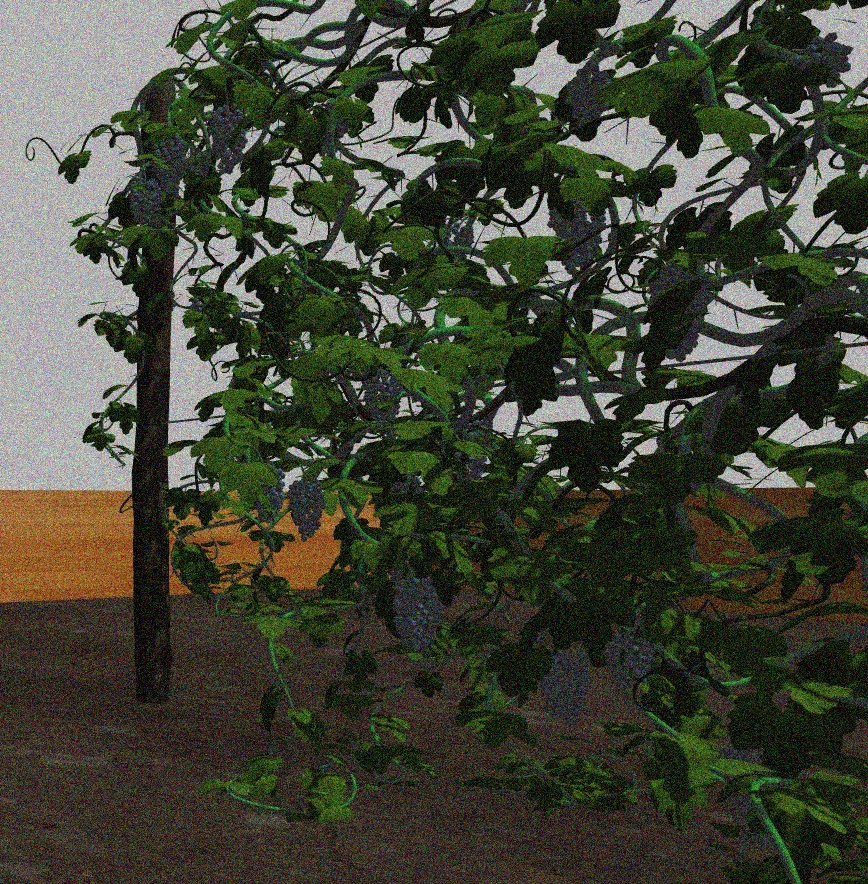grape: (648, 267, 708, 361), (548, 191, 609, 276), (390, 573, 442, 654), (540, 651, 593, 724), (602, 632, 656, 697), (791, 34, 852, 83), (564, 68, 610, 129), (208, 100, 246, 172), (288, 478, 325, 542), (362, 361, 401, 419), (152, 136, 187, 194), (127, 176, 161, 227), (255, 467, 285, 523)
